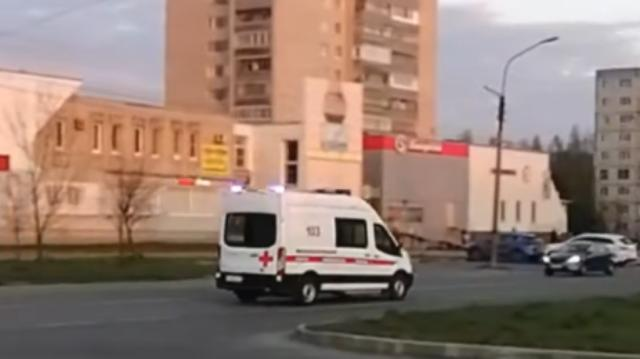ambulance: (214, 183, 417, 310)
non emergency car: (541, 243, 619, 282), (466, 231, 540, 266)
